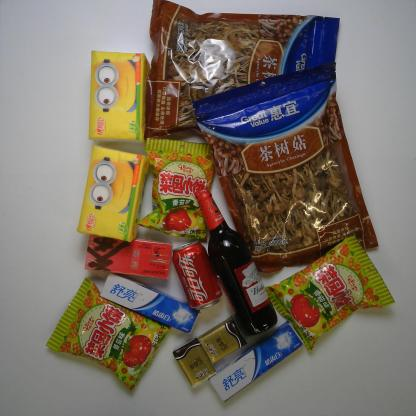Alcohol: (192, 181, 279, 338)
Dried Food: (190, 58, 376, 277), (140, 0, 340, 140)
Drink: (168, 234, 223, 311)
Instant Drink: (82, 230, 174, 283)
Personal Hygiene: (208, 320, 305, 402), (98, 268, 200, 337)
Puffed Food: (264, 235, 396, 352), (41, 277, 172, 394), (137, 134, 222, 246)
Tissue: (75, 142, 151, 243), (86, 46, 148, 148), (170, 334, 220, 391), (199, 317, 249, 364)
